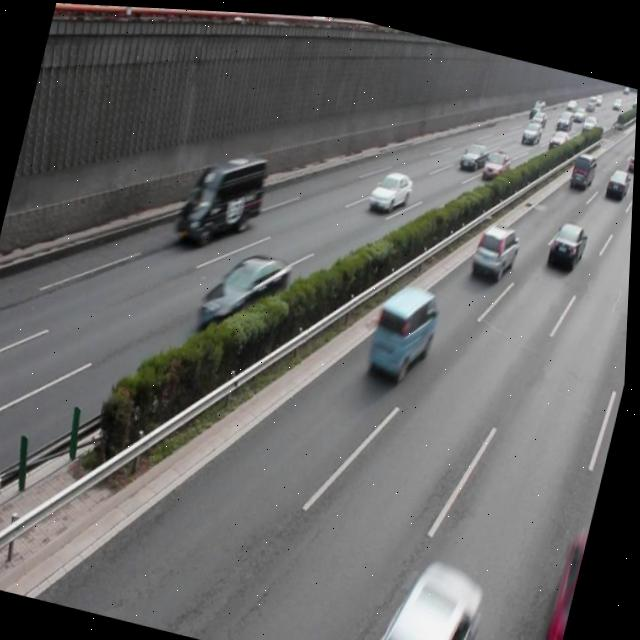car: (367, 541, 492, 640), (198, 240, 296, 339), (366, 272, 444, 382), (538, 519, 594, 640), (469, 212, 523, 278), (546, 211, 590, 267), (368, 161, 415, 211)
truck: (175, 138, 273, 252)
